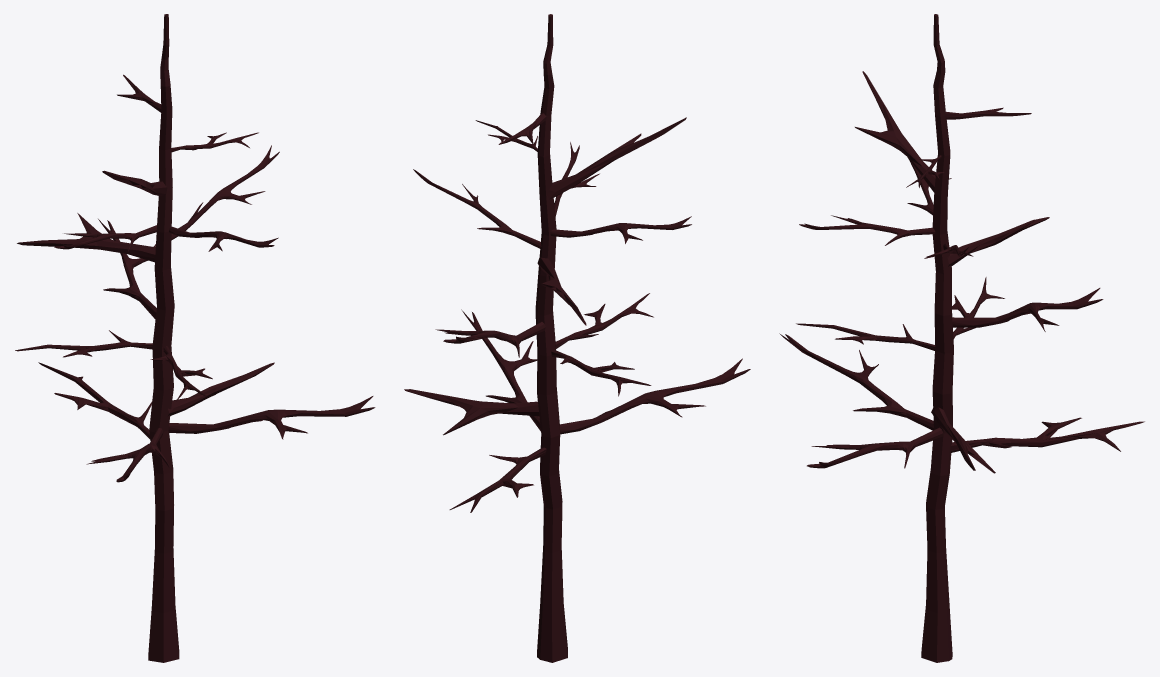
File: normal_tree1.fbx
3 renders of one model, left to right at view 1: azimuth 30°, elevation 25°; view 2: azimuth 150°, elevation 25°; view 3: azimuth 270°, elevation 25°, orthographic.
Visible parts, largest first — view 1: Cube.003; view 2: Cube.003; view 3: Cube.003.
Boxes of the visible parts, left/top/right/bottom form: Cube.003: left=15, top=14, right=375, bottom=662; Cube.003: left=404, top=14, right=750, bottom=662; Cube.003: left=779, top=14, right=1144, bottom=662.
Size of the model in its own units: 2721 by 6055 by 3126.
